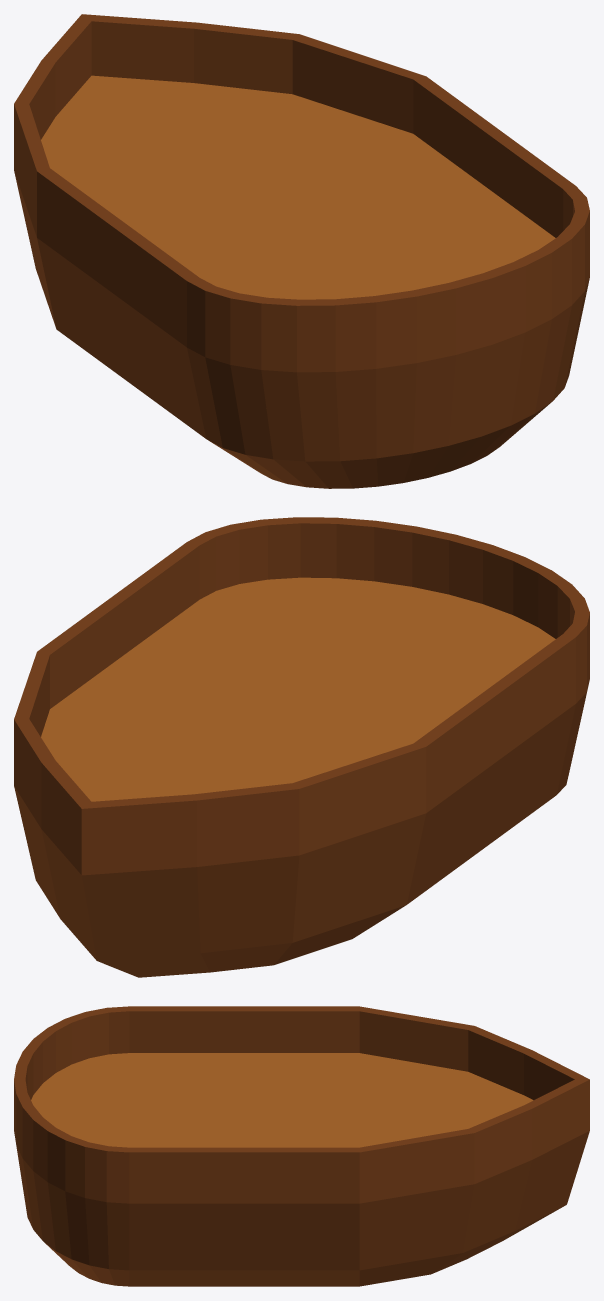
Rendered from SINGLE_DECK.obj.
The picture shows the model from 3 angles, top to bottom: view 1: azimuth 30°, elevation 25°; view 2: azimuth 150°, elevation 25°; view 3: azimuth 270°, elevation 25°; orthographic projection. The views are drawn at different scales.
Size of the model in its own units: 6 by 3.4 by 10.
